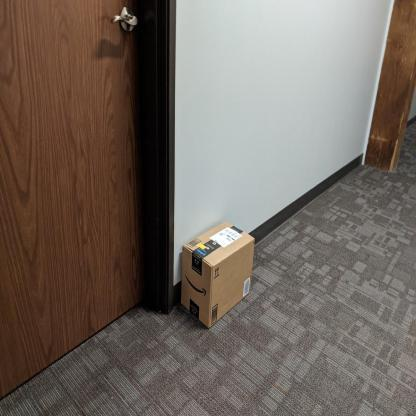package: (177, 218, 257, 329)
